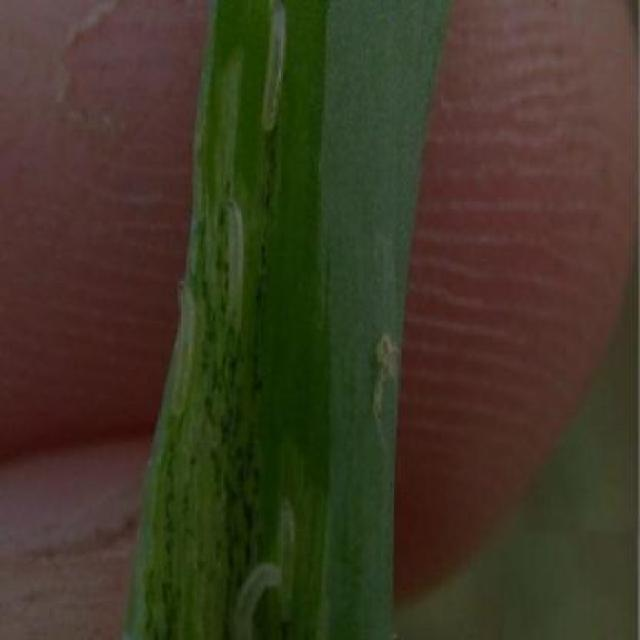whorl-maggot: (166, 269, 200, 425), (229, 552, 285, 640), (260, 2, 288, 146), (223, 186, 248, 334), (277, 491, 300, 623)
